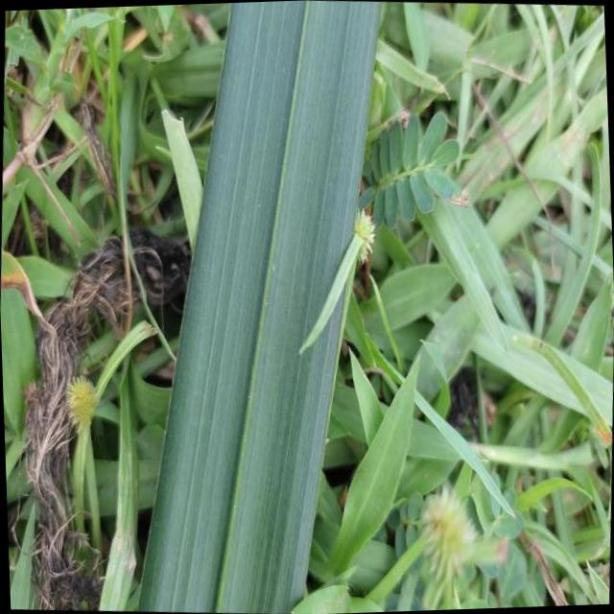Healthy: (134, 0, 382, 614)
